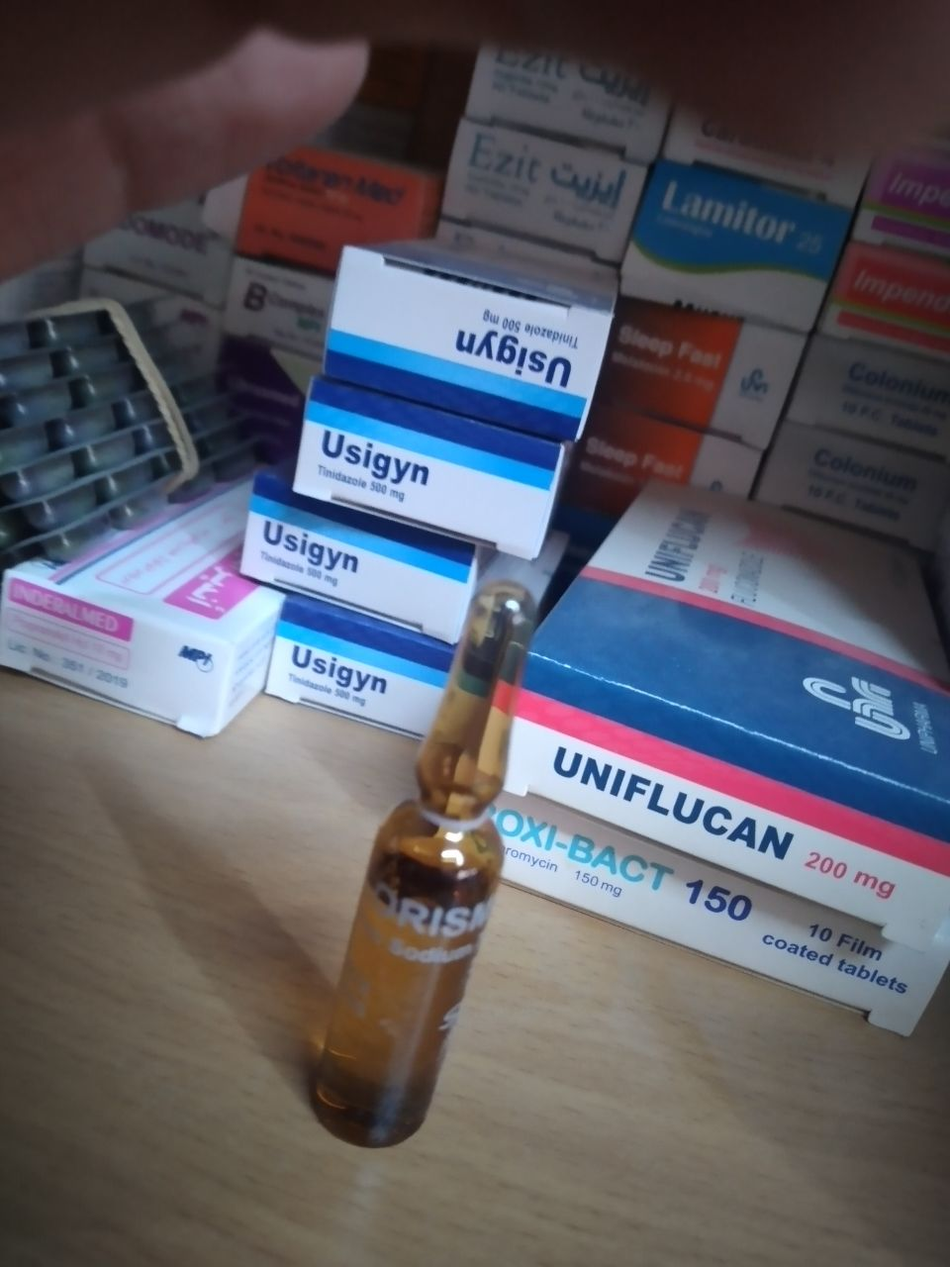Medicine: (498, 459, 950, 954), (274, 548, 551, 1188), (313, 221, 653, 462), (284, 363, 594, 561), (0, 544, 277, 742), (604, 251, 778, 508), (237, 485, 501, 650), (264, 581, 485, 752)
